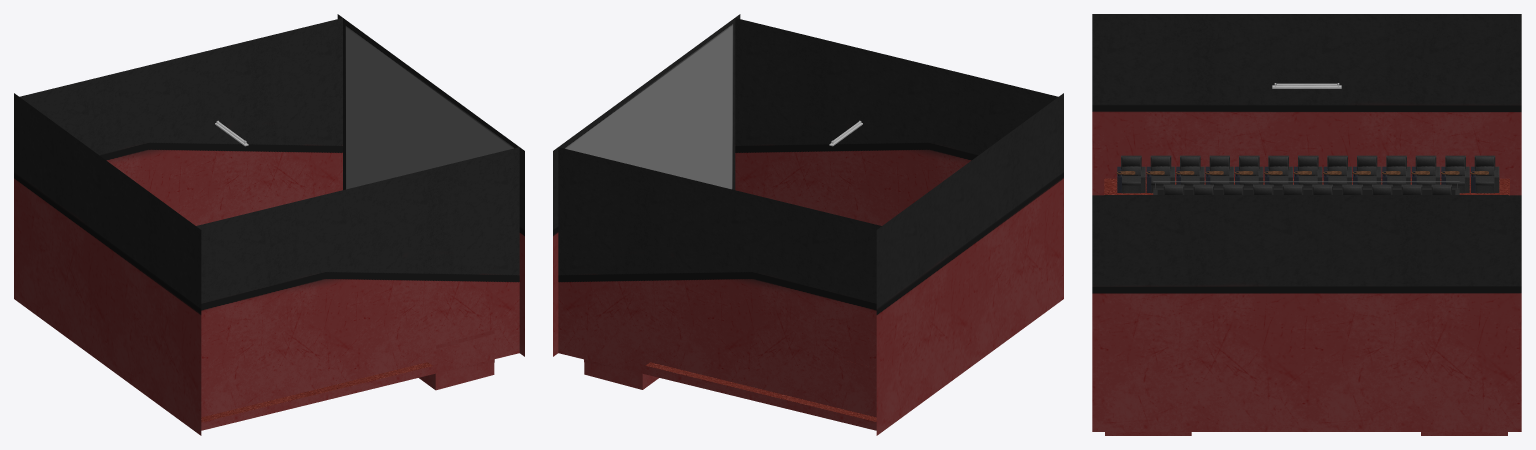
File: 2D cinema.optimized.glb
3 views of the same model, side by side, from view 1: azimuth 30°, elevation 25°; view 2: azimuth 150°, elevation 25°; view 3: azimuth 270°, elevation 25° (orthographic). The views are drawn at different scales.
Visible parts, largest first — view 1: Wall, Wall.002, Screen, Wall.001, ExitWalls, InbetweenRowFloor.007; view 2: Wall, Wall.002, Screen, Wall.001, InbetweenRowFloor.007, ExitWalls; view 3: Wall.001, Wall.002, Cube.021, Cube.005, RowWall.001, ExitWalls, RailingHorizontal.
Boxes of the visible parts, x1,y1,x2,y2 form: Wall: (19, 18, 519, 430); Wall.002: (14, 93, 201, 435); Screen: (343, 18, 518, 189); Wall.001: (337, 14, 524, 356); ExitWalls: (419, 330, 494, 390); InbetweenRowFloor.007: (201, 362, 432, 422); Wall: (558, 18, 1058, 430); Wall.002: (876, 93, 1063, 435); Screen: (559, 18, 735, 189); Wall.001: (553, 14, 740, 356); InbetweenRowFloor.007: (646, 362, 876, 421); ExitWalls: (584, 359, 658, 389); Wall.001: (1092, 195, 1521, 431); Wall.002: (1092, 14, 1521, 195); Cube.021: (1116, 155, 1499, 193); Cube.005: (1163, 184, 1451, 194); RowWall.001: (1153, 188, 1459, 194); ExitWalls: (1105, 432, 1507, 435); RailingHorizontal: (1153, 181, 1459, 182).
Size of the model in its own units: 28.13 by 18.53 by 28.16.
Materials: 20 (19 with a texture image).
